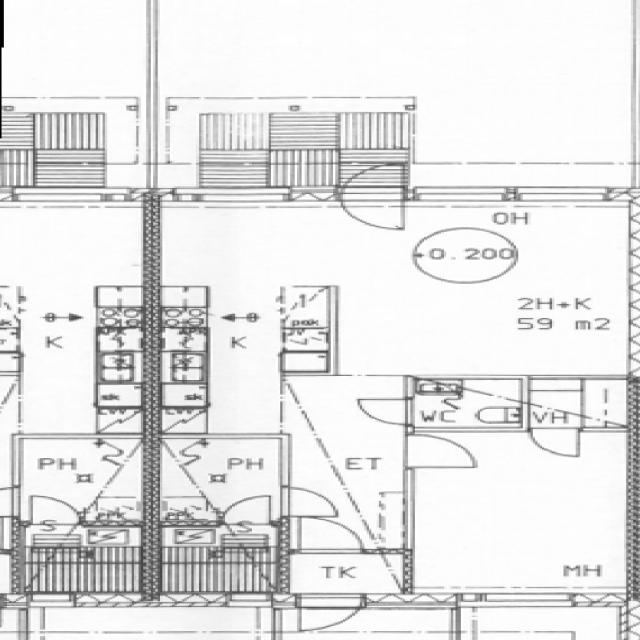door: (343, 188, 404, 233), (343, 156, 404, 201), (301, 592, 360, 638), (300, 517, 361, 554), (404, 435, 473, 467), (282, 488, 344, 516), (357, 399, 414, 424), (532, 427, 579, 456), (224, 497, 268, 527)
